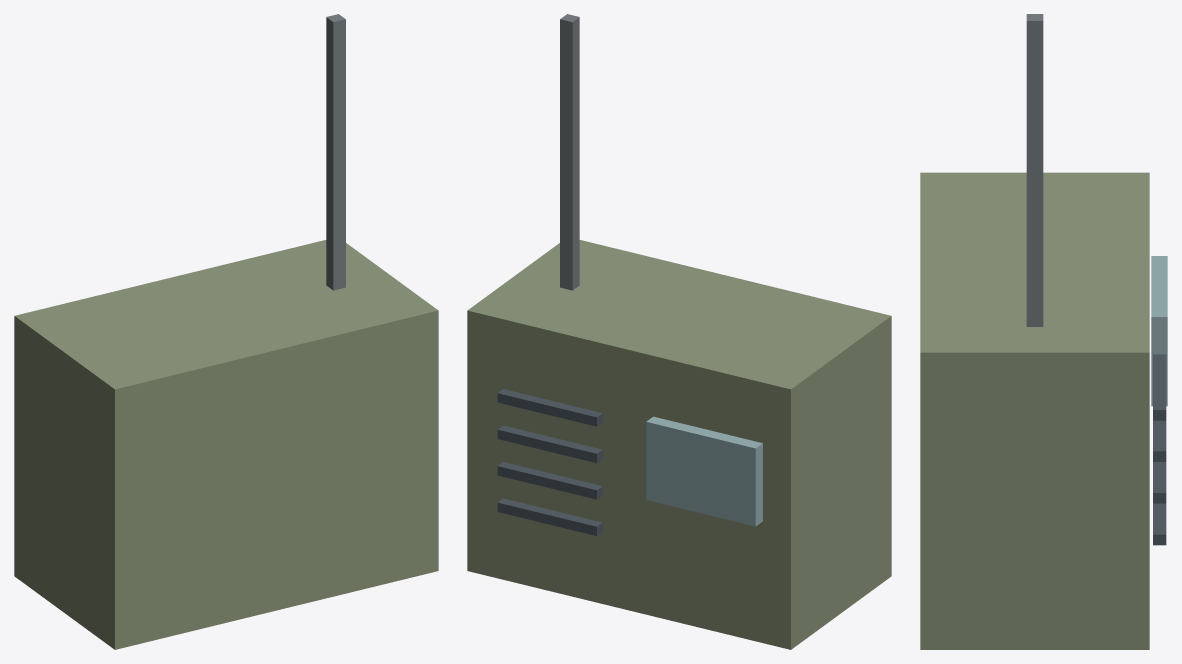
File: radio_station.glb
The picture shows the model from 3 angles, left to right: view 1: azimuth 30°, elevation 25°; view 2: azimuth 150°, elevation 25°; view 3: azimuth 270°, elevation 25°; orthographic projection. The views are drawn at different scales.
Parts seen in each view (by area): view 1: body; view 2: body; view 3: body.
Part boxes in pixels (<box>): body: <box>14,14,438,649</box>; body: <box>467,14,891,649</box>; body: <box>920,14,1167,649</box>.
Bounding box in the file's own units: 0.65 × 1.01 × 0.3775.
